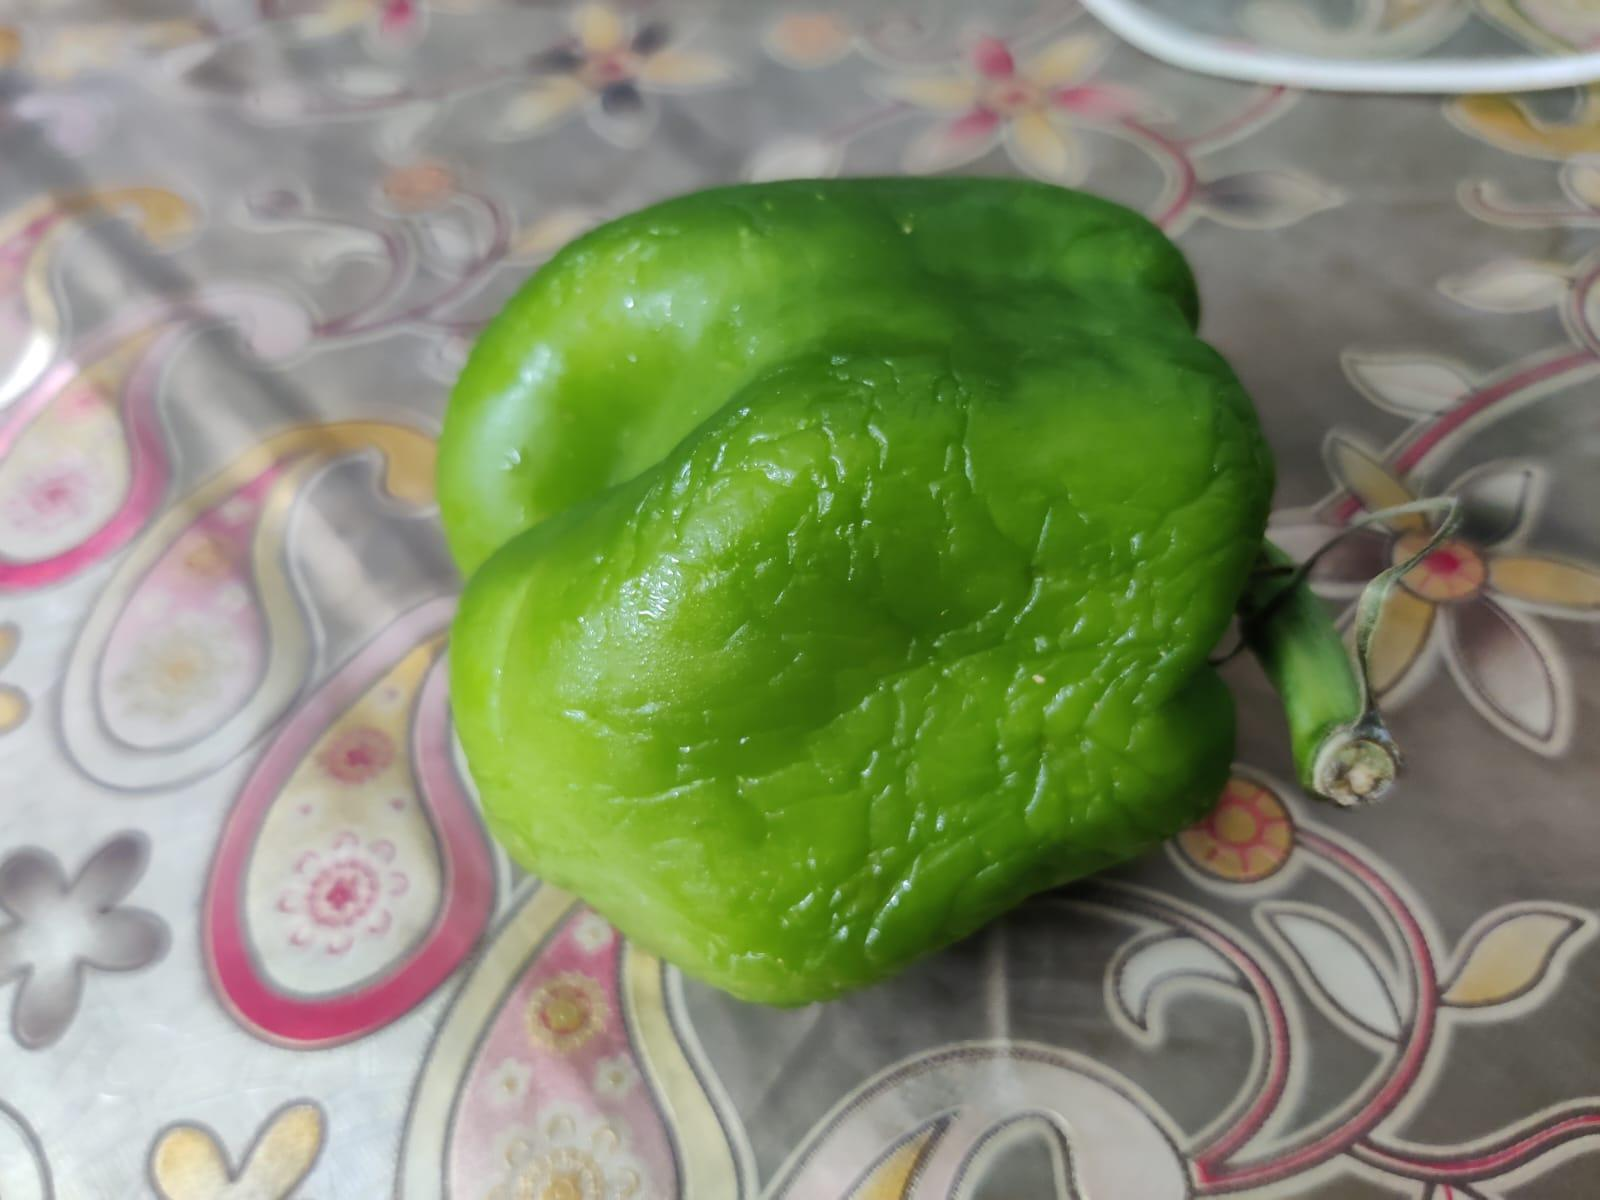non-mango: (443, 178, 1236, 989)
